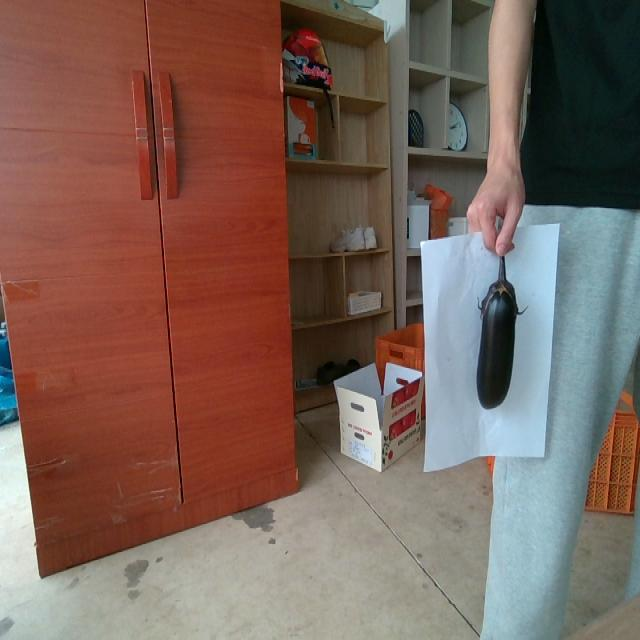Egg plant: (477, 257, 521, 408)
